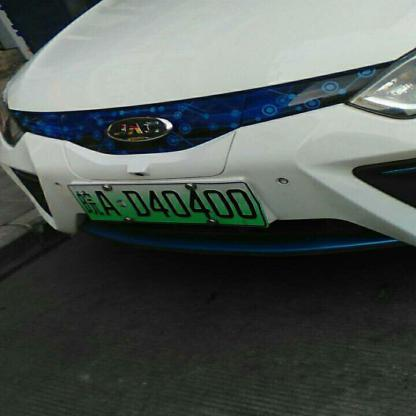lp: (68, 182, 268, 226)
